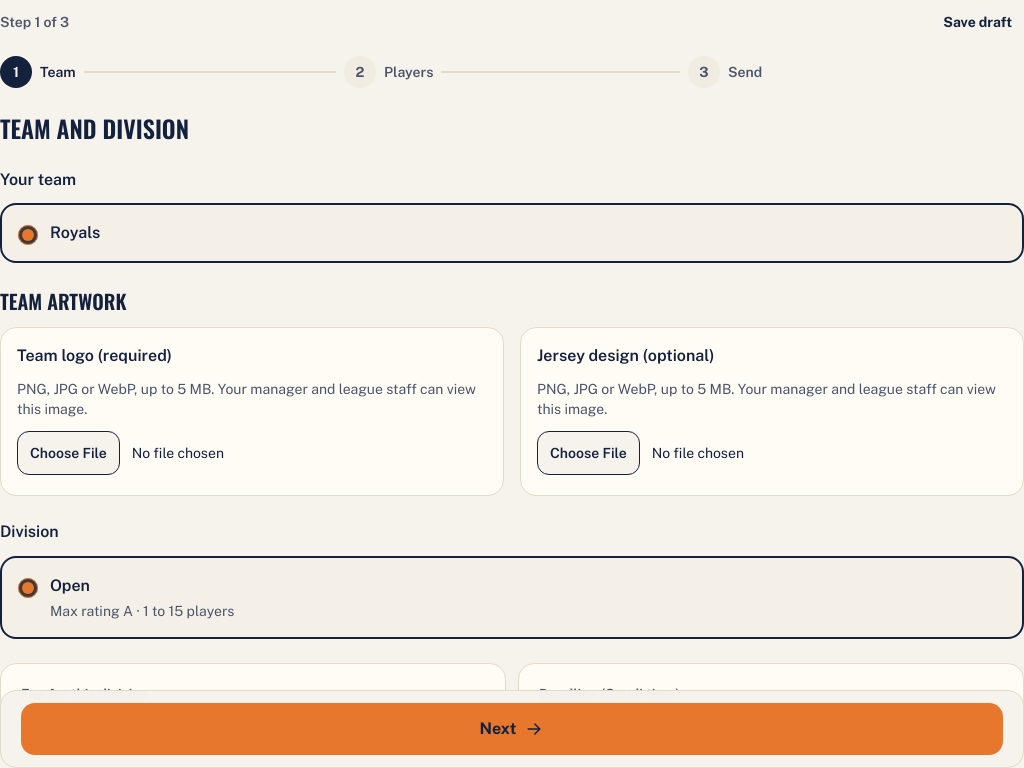
Test: building the roster › offers a typed name as a new player and lists it without saving
This screenshot has width=1024, height=768.
Click the button "Next" at [512, 729], box [21, 703, 1003, 755]
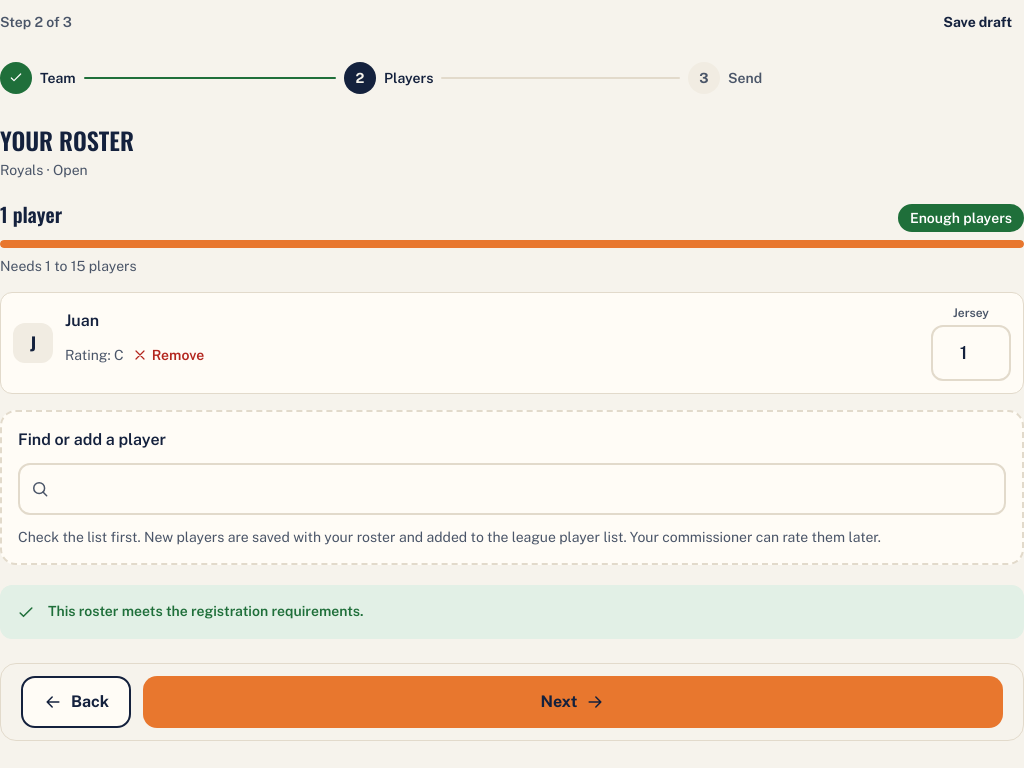
Expected: the heading "Your roster" is shown, [0, 122, 134, 158]
Type "Pedro Penduko" into the search field labelled "Find or add a player" at [512, 489], box [18, 463, 1006, 515]
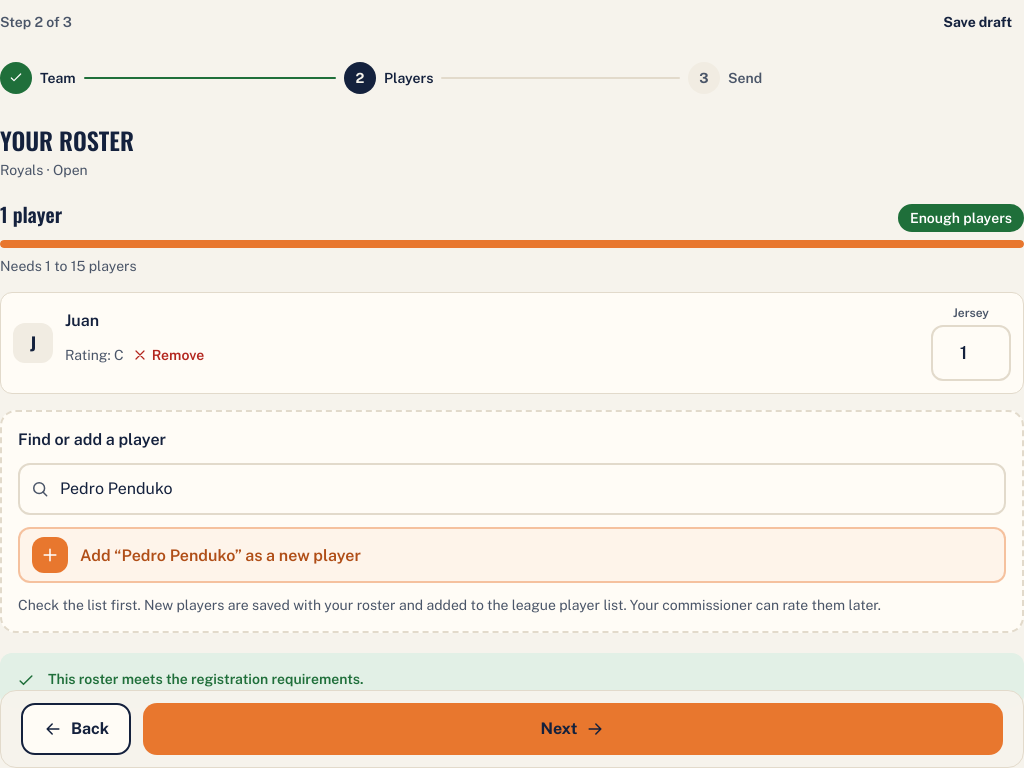
Click the button "Add “Pedro Penduko” as a new player" at [50, 555], box [18, 527, 1006, 583]
(page scrolled)
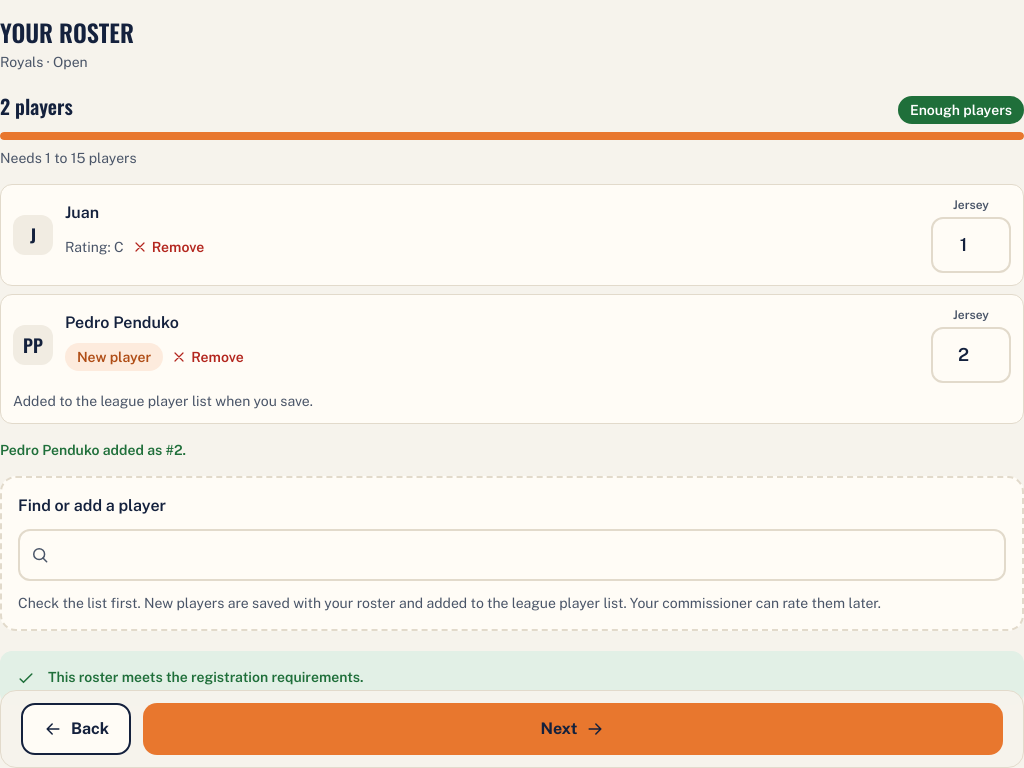
Expected: the text "New player" is shown, [65, 343, 163, 371]
Expected: the text "Pedro Penduko" is shown, [65, 313, 179, 332]
